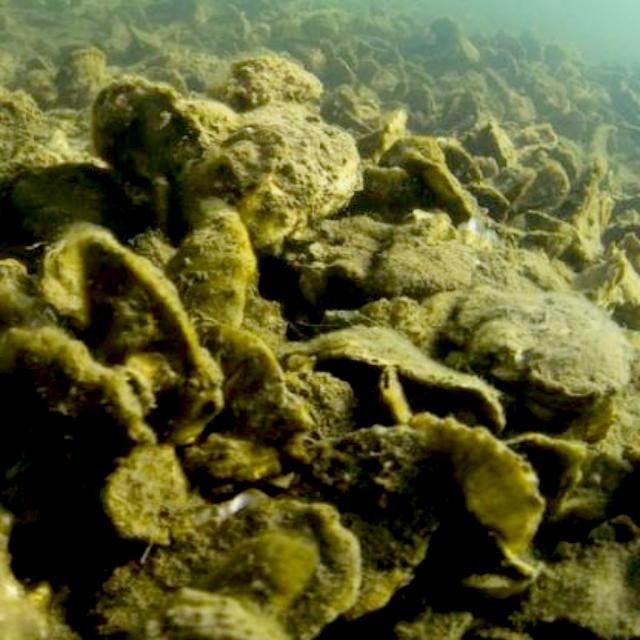Oyster-Closed: (70, 484, 361, 640), (80, 231, 227, 452), (292, 426, 462, 616), (177, 95, 361, 246), (0, 321, 156, 470), (294, 326, 512, 423), (405, 412, 543, 555), (462, 282, 631, 395), (0, 160, 147, 253), (95, 433, 204, 537), (97, 82, 202, 189), (154, 208, 242, 331), (196, 324, 288, 439), (369, 248, 469, 295), (515, 164, 572, 208), (444, 141, 483, 180), (514, 231, 570, 257), (469, 185, 509, 221), (483, 122, 515, 167)
